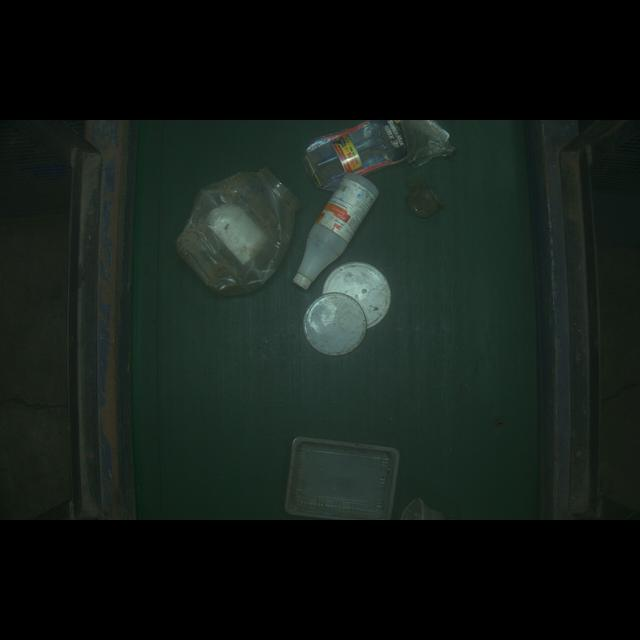mix rigid: (166, 153, 301, 317), (284, 423, 404, 526), (287, 172, 382, 291), (300, 119, 442, 176), (319, 264, 410, 328), (299, 290, 367, 360), (396, 178, 451, 221)
